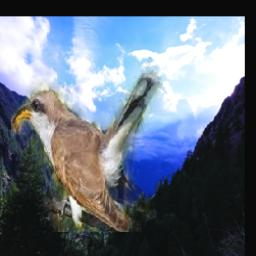Cuckoo: (11, 38, 176, 232)
